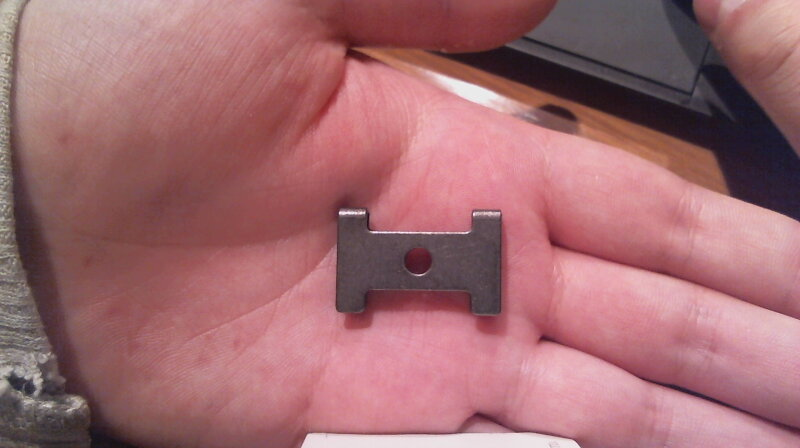O002: (330, 207, 508, 319)
